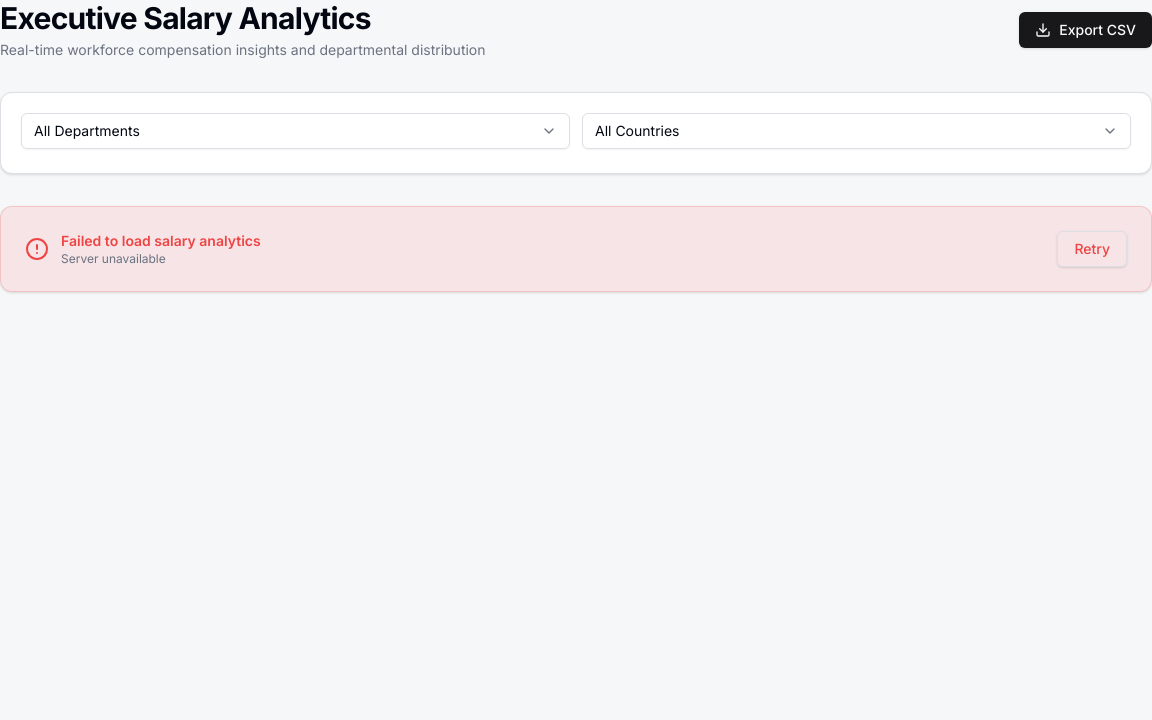
Test case: Dashboard Page Component › renders error state and handles retry on API failure
The width and height of the screenshot is (1152, 720).
Expected: the text "Failed to load salary analytics" is shown, [61,231,261,251]
Expected: the text "Server unavailable" is shown, [61,251,166,266]
What coordinates should you click on to do the following:
click the button "Retry"
I would click on:
 (1092, 249)
Its box is [1057,231,1127,267].
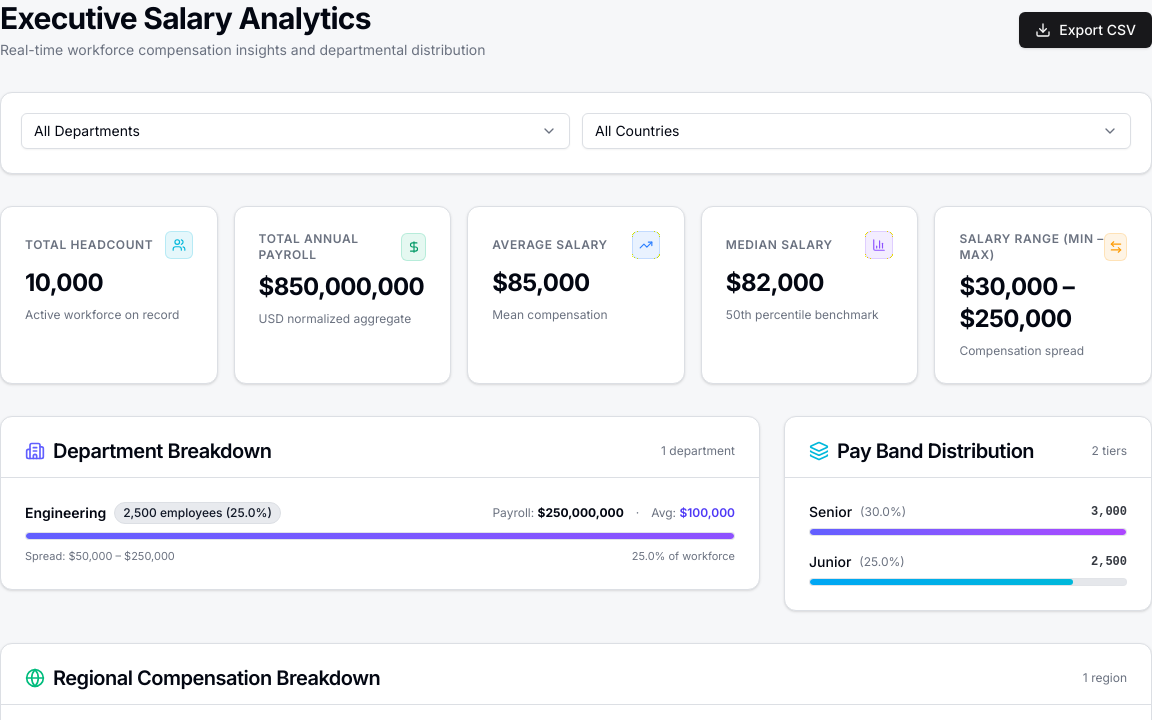
Expected: the text "10,000" is shown, [25,268,103,297]
